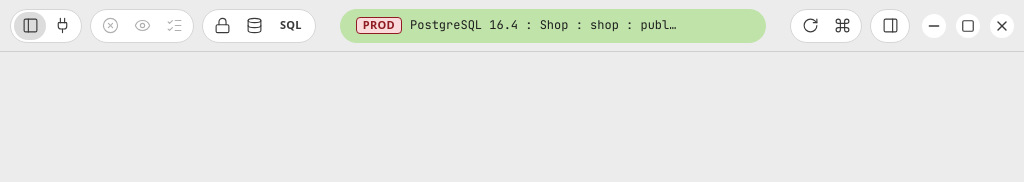
Test: the safe mode menu shows the enforced mode and saves the connection's level
Note: prod without an explicit mode confirms writes.
What coordinates should you click on to do the following:
click the button named "Safe mode: confirm writes"
I would click on:
 (222, 26)
Its box is [206,12,238,40].
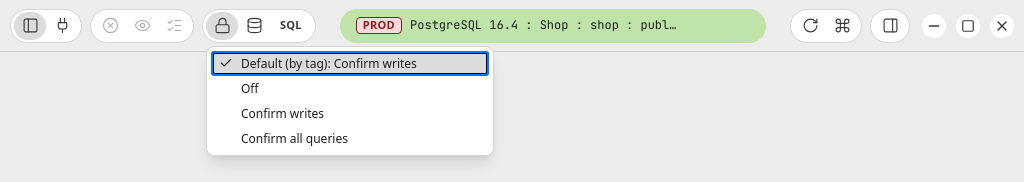
What coordinates should you click on to do the following:
click the menu item "Confirm all queries"
I would click on:
 (350, 138)
Its box is [211,126,489,151].
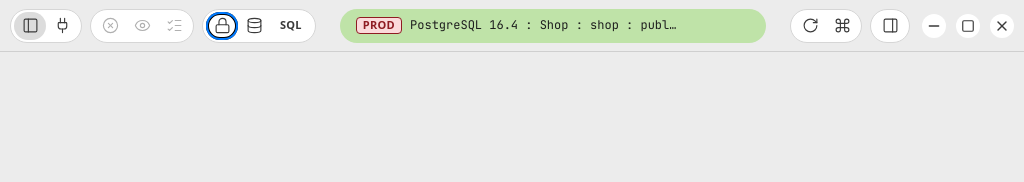
Now the menu is gone
